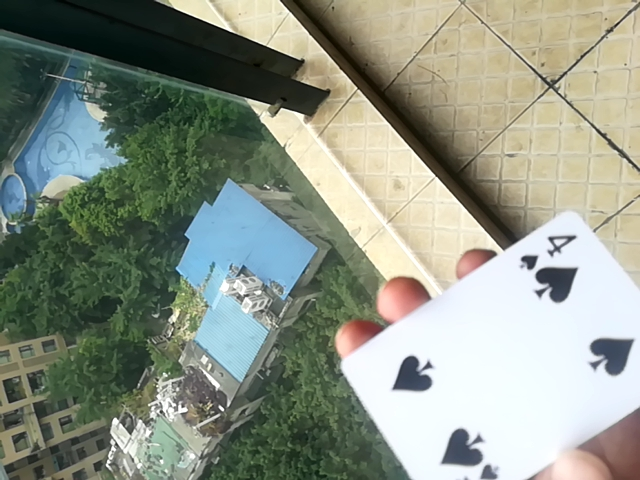ht 4: (328, 207, 640, 478)
